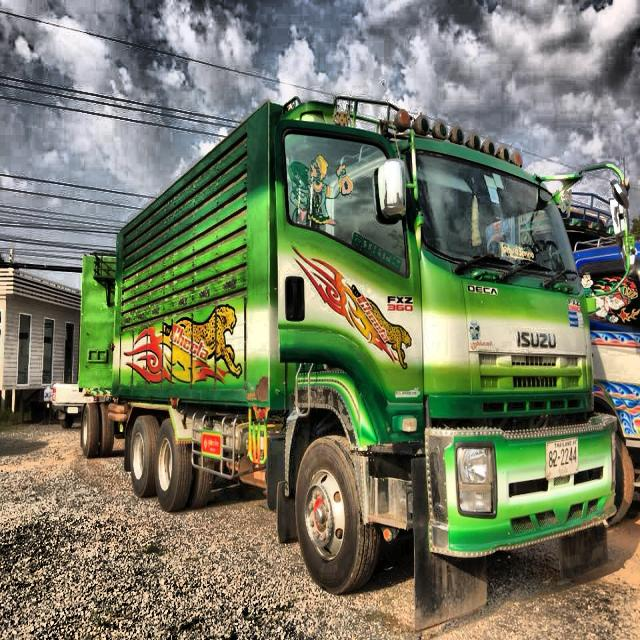trailer: (84, 89, 611, 599)
